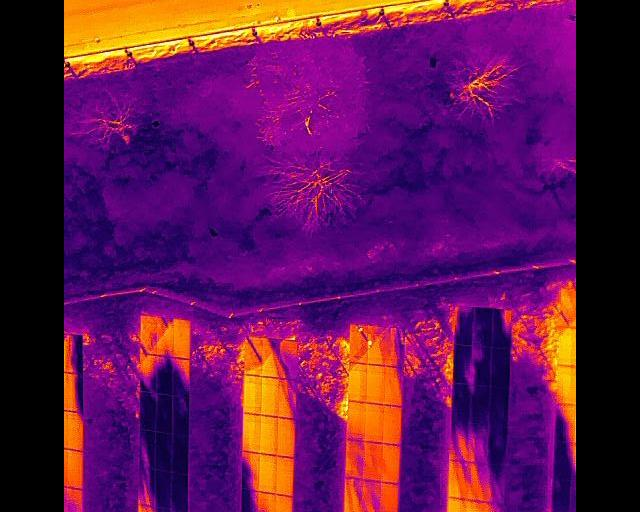Cell: (350, 324, 368, 363), (367, 326, 384, 364)
No-Anomaly: (364, 441, 384, 480), (64, 448, 83, 489), (64, 408, 83, 449), (382, 365, 401, 405), (382, 442, 401, 482), (557, 366, 576, 404), (382, 404, 401, 442), (261, 375, 279, 415), (277, 417, 295, 456), (347, 400, 365, 439), (348, 362, 366, 401), (558, 326, 576, 365), (261, 415, 279, 453), (243, 413, 261, 451), (365, 402, 382, 442), (276, 455, 293, 494), (244, 374, 261, 413), (259, 453, 276, 492), (366, 365, 383, 403), (174, 319, 190, 358), (381, 482, 398, 512), (276, 495, 292, 512), (448, 499, 466, 512), (465, 500, 484, 512)
Shadowing: (470, 383, 490, 425), (490, 384, 510, 425), (450, 461, 471, 499), (451, 383, 470, 425), (471, 346, 492, 384), (473, 307, 493, 346), (554, 440, 574, 478), (384, 325, 403, 365), (492, 308, 512, 346), (487, 462, 506, 502), (64, 369, 82, 411), (345, 439, 364, 478), (491, 346, 510, 385), (455, 305, 474, 344), (453, 344, 472, 383), (470, 462, 489, 500), (138, 467, 157, 505), (450, 425, 470, 461), (558, 286, 576, 326), (64, 331, 82, 371), (471, 425, 490, 462), (556, 403, 575, 440), (279, 378, 297, 417), (551, 479, 572, 512), (280, 340, 298, 378), (242, 451, 260, 489), (139, 315, 157, 353), (156, 470, 174, 507), (172, 358, 190, 395), (262, 337, 279, 375), (490, 425, 507, 463), (156, 430, 172, 470), (172, 395, 188, 435), (141, 391, 157, 431), (344, 477, 362, 512), (363, 479, 382, 512), (157, 392, 173, 431), (172, 434, 188, 473), (157, 318, 173, 356), (245, 336, 261, 374), (141, 354, 157, 392), (172, 473, 187, 509), (141, 430, 155, 468), (157, 355, 171, 392), (64, 487, 82, 512), (242, 489, 258, 512), (258, 492, 275, 512), (483, 502, 503, 512)
